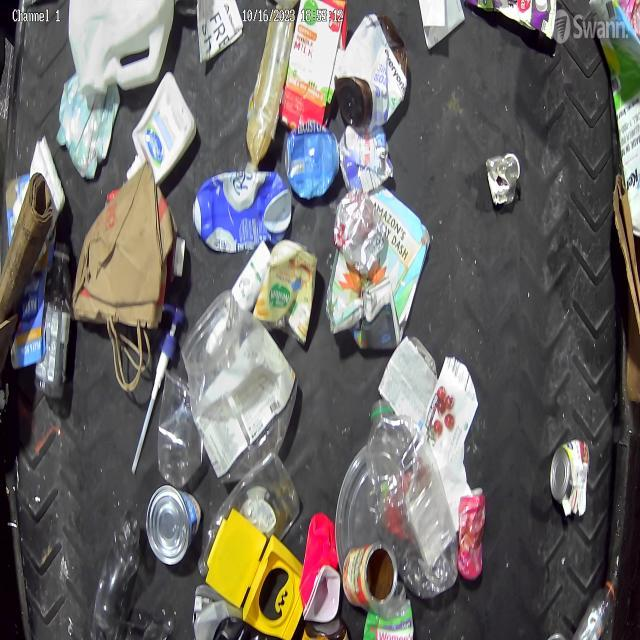can: (146, 488, 203, 564), (285, 121, 339, 201), (334, 192, 384, 274), (343, 542, 397, 610), (550, 439, 590, 516), (457, 487, 486, 582), (340, 152, 394, 193)
milk_jug: (68, 0, 174, 98)
non_white_jug: (281, 0, 348, 128), (192, 170, 292, 252)
plastic_bottle: (370, 400, 458, 600), (93, 511, 141, 638), (36, 244, 72, 402), (572, 574, 618, 640), (486, 153, 521, 206)
